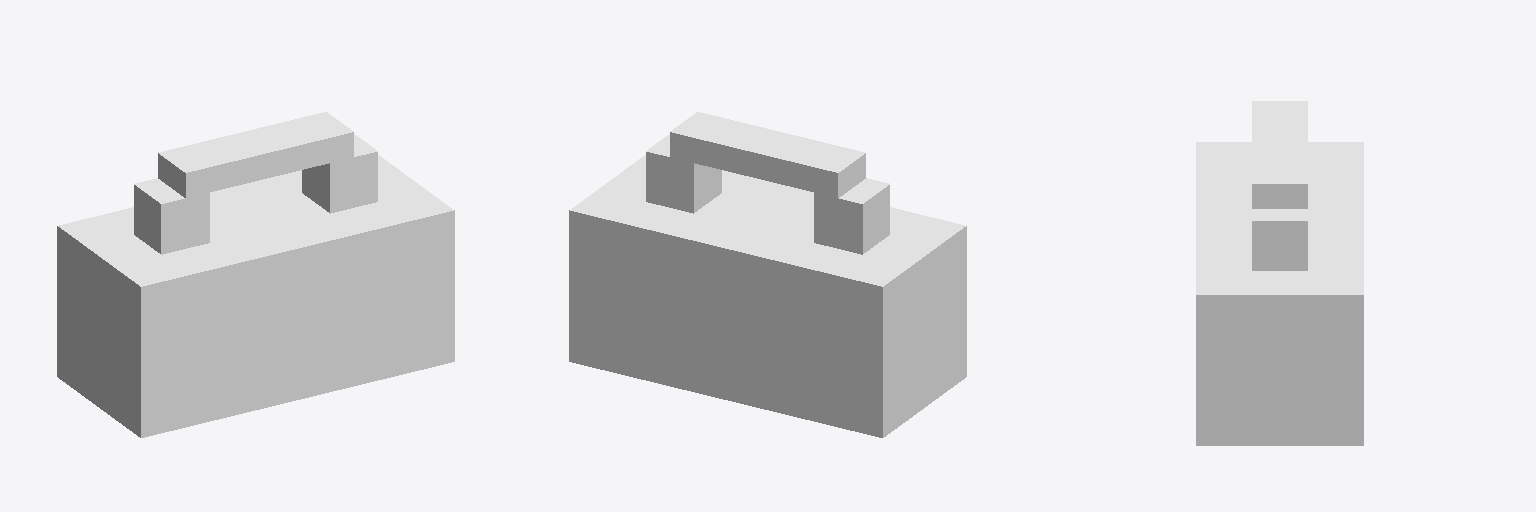
Rendered from boombox.obj.
3 renders of one model, left to right at view 1: azimuth 30°, elevation 25°; view 2: azimuth 150°, elevation 25°; view 3: azimuth 270°, elevation 25°, orthographic.
Parts seen in each view (by area): view 1: object 1; view 2: object 1; view 3: object 1.
Part boxes in pixels (x1,y1,x2,y2): object 1: (57,112,454,437); object 1: (569,112,966,437); object 1: (1196,101,1363,445).
Bounding box in the file's own units: 1.3 × 0.9 × 0.6.